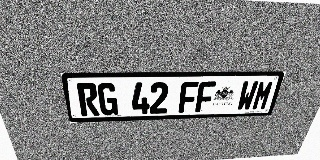2: (150, 82, 169, 114)
4: (131, 82, 150, 114)
F: (178, 82, 199, 113), (195, 81, 216, 112)
G: (97, 83, 118, 116)
M: (251, 81, 275, 110)
R: (76, 83, 100, 116)
W: (236, 81, 259, 111)
